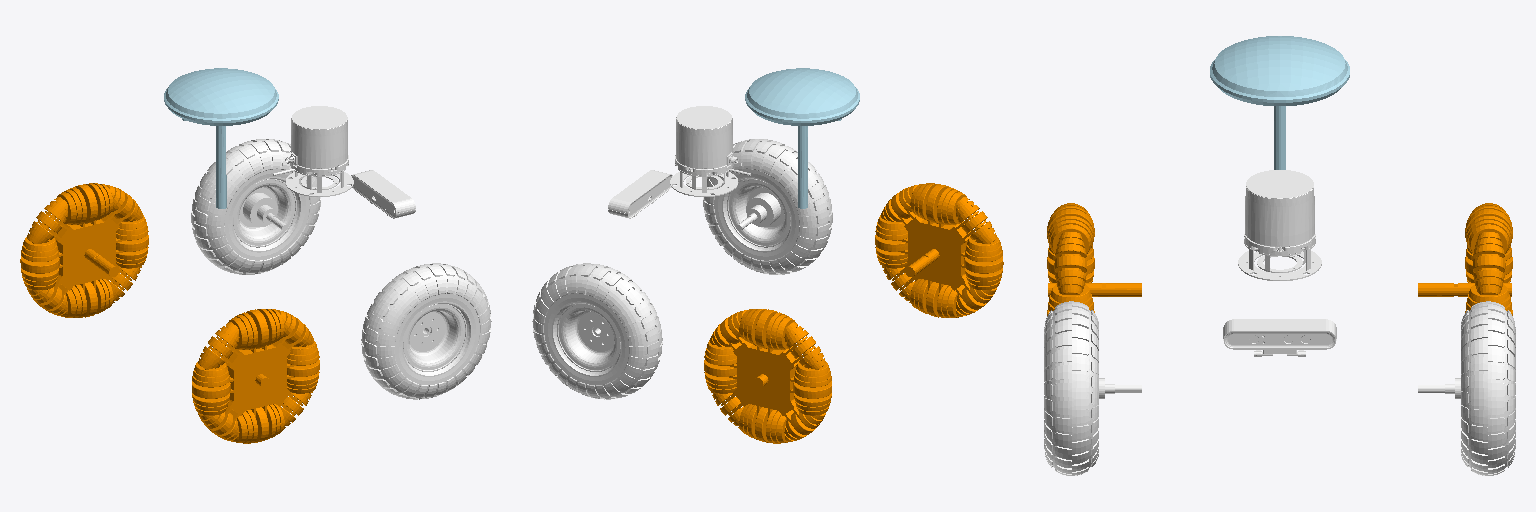
URDF robot description (four_wheel_diff_dl_meshes):
<?xml version="1.0" encoding="utf-8"?>
<!-- This URDF was automatically created by SolidWorks to URDF Exporter! Originally created by Stephen Brawner (brawner@gmail.com) 
     Commit Version: 1.6.0-4-g7f85cfe  Build Version: 1.6.7995.38578
     For more information, please see http://wheeltec_robot_urdf/meshes/wiki.ros.org/sw_urdf_exporter -->
<robot
  name="four_wheel_diff_dl_meshes">
  <link
    name="base_link">
    <inertial>
      <origin
        xyz="-0.00806331461530618 -0.000932512273646859 0.107549949101176"
        rpy="0 0 0" />
      <mass
        value="7.84793817341374" />
      <inertia
        ixx="0.0916779778829036"
        ixy="0.000149693096664217"
        ixz="-0.0011643418131498"
        iyy="0.0872254564011612"
        iyz="0.000113985151646456"
        izz="0.168740806626063" />
    </inertial>
    <visual>
      <origin
        xyz="0 0 0"
        rpy="0 0 0" />
      <geometry>
        <mesh
          filename="package://wheeltec_robot_urdf/meshes/four_wheel_diff_dl_robot_meshes/base_link.STL" />
      </geometry>
      <material
        name="">
        <color
          rgba="0.752941176470588 0.752941176470588 0.752941176470588 1" />
      </material>
    </visual>
    <collision>
      <origin
        xyz="0 0 0"
        rpy="0 0 0" />
      <geometry>
        <mesh
          filename="package://wheeltec_robot_urdf/meshes/four_wheel_diff_dl_robot_meshes/base_link.STL" />
      </geometry>
    </collision>
  </link>
  <link
    name="lf_wheel_link">
    <inertial>
      <origin
        xyz="-5.01173514910747E-08 -0.00170642424946854 5.94733448655571E-07"
        rpy="0 0 0" />
      <mass
        value="1.16012121113247" />
      <inertia
        ixx="0.00602972910268428"
        ixy="5.47807308579985E-10"
        ixz="-1.84165299077901E-09"
        iyy="0.0106298315440435"
        iyz="-1.4714790165743E-08"
        izz="0.00603002450897196" />
    </inertial>
    <visual>
      <origin
        xyz="0 0 0"
        rpy="0 0 0" />
      <geometry>
        <mesh
          filename="package://wheeltec_robot_urdf/meshes/four_wheel_diff_dl_robot_meshes/lf_wheel_link.STL" />
      </geometry>
      <material
        name="">
        <color
          rgba="1 1 1 1" />
      </material>
    </visual>
    <collision>
      <origin
        xyz="0 0 0"
        rpy="0 0 0" />
      <geometry>
        <mesh
          filename="package://wheeltec_robot_urdf/meshes/four_wheel_diff_dl_robot_meshes/lf_wheel_link.STL" />
      </geometry>
    </collision>
  </link>
  <joint
    name="lf_wheel_joint"
    type="continuous">
    <origin
      xyz="0.177199162984322 0.301880000000001 0.041993"
      rpy="0 0 0" />
    <parent
      link="base_link" />
    <child
      link="lf_wheel_link" />
    <axis
      xyz="0 -1 0" />
  </joint>
  <link
    name="rf_wheel_link">
    <inertial>
      <origin
        xyz="5.01173520184306E-08 0.00170642424946899 5.94733447767393E-07"
        rpy="0 0 0" />
      <mass
        value="1.16012121113247" />
      <inertia
        ixx="0.00602972910268411"
        ixy="5.47807257931509E-10"
        ixz="1.84165299400066E-09"
        iyy="0.0106298315440432"
        iyz="1.47147902330147E-08"
        izz="0.00603002450897179" />
    </inertial>
    <visual>
      <origin
        xyz="0 0 0"
        rpy="0 0 0" />
      <geometry>
        <mesh
          filename="package://wheeltec_robot_urdf/meshes/four_wheel_diff_dl_robot_meshes/rf_wheel_link.STL" />
      </geometry>
      <material
        name="">
        <color
          rgba="1 1 1 1" />
      </material>
    </visual>
    <collision>
      <origin
        xyz="0 0 0"
        rpy="0 0 0" />
      <geometry>
        <mesh
          filename="package://wheeltec_robot_urdf/meshes/four_wheel_diff_dl_robot_meshes/rf_wheel_link.STL" />
      </geometry>
    </collision>
  </link>
  <joint
    name="rf_wheel_joint"
    type="continuous">
    <origin
      xyz="0.177199162984322 -0.304479999999999 0.041993"
      rpy="0 0 0" />
    <parent
      link="base_link" />
    <child
      link="rf_wheel_link" />
    <axis
      xyz="0 -1 0" />
  </joint>
  <link
    name="lb_wheel_link">
    <inertial>
      <origin
        xyz="3.3223253037562E-09 -0.000813659203822592 2.37717275031191E-09"
        rpy="0 0 0" />
      <mass
        value="1.84890850705851" />
      <inertia
        ixx="0.00775640915402864"
        ixy="-1.50914446669823E-10"
        ixz="-1.81579025133657E-09"
        iyy="0.014717596649701"
        iyz="1.8047797953026E-10"
        izz="0.00775642346336651" />
    </inertial>
    <visual>
      <origin
        xyz="0 0 0"
        rpy="0 0 0" />
      <geometry>
        <mesh
          filename="package://wheeltec_robot_urdf/meshes/four_wheel_diff_dl_robot_meshes/lb_wheel_link.STL" />
      </geometry>
      <material
        name="">
        <color
          rgba="1 0.6 0 1" />
      </material>
    </visual>
    <collision>
      <origin
        xyz="0 0 0"
        rpy="0 0 0" />
      <geometry>
        <mesh
          filename="package://wheeltec_robot_urdf/meshes/four_wheel_diff_dl_robot_meshes/lb_wheel_link.STL" />
      </geometry>
    </collision>
  </link>
  <joint
    name="lb_wheel_joint"
    type="continuous">
    <origin
      xyz="-0.174800837015678 0.303500000000001 0.037"
      rpy="0 0 0" />
    <parent
      link="base_link" />
    <child
      link="lb_wheel_link" />
    <axis
      xyz="0 1 0" />
  </joint>
  <link
    name="rb_wheel_link">
    <inertial>
      <origin
        xyz="-3.32232544253408E-09 0.000813659203822537 2.37717297235651E-09"
        rpy="0 0 0" />
      <mass
        value="1.84890850705852" />
      <inertia
        ixx="0.00775640915402866"
        ixy="-1.50914446678396E-10"
        ixz="1.81579025280261E-09"
        iyy="0.014717596649701"
        iyz="-1.80477990000196E-10"
        izz="0.00775642346336651" />
    </inertial>
    <visual>
      <origin
        xyz="0 0 0"
        rpy="0 0 0" />
      <geometry>
        <mesh
          filename="package://wheeltec_robot_urdf/meshes/four_wheel_diff_dl_robot_meshes/rb_wheel_link.STL" />
      </geometry>
      <material
        name="">
        <color
          rgba="1 0.6 0 1" />
      </material>
    </visual>
    <collision>
      <origin
        xyz="0 0 0"
        rpy="0 0 0" />
      <geometry>
        <mesh
          filename="package://wheeltec_robot_urdf/meshes/four_wheel_diff_dl_robot_meshes/rb_wheel_link.STL" />
      </geometry>
    </collision>
  </link>
  <joint
    name="rb_wheel_joint"
    type="continuous">
    <origin
      xyz="-0.174800837015678 -0.306099999999999 0.037"
      rpy="0 0 0" />
    <parent
      link="base_link" />
    <child
      link="rb_wheel_link" />
    <axis
      xyz="0 1 0" />
  </joint>
  <link
    name="laser_link">
    <inertial>
      <origin
        xyz="-0.000792227312165439 1.33119285977949E-06 -0.0296756284343189"
        rpy="0 0 0" />
      <mass
        value="0.118401562997181" />
      <inertia
        ixx="0.000132583547440517"
        ixy="-2.17388444683131E-09"
        ixz="-1.07082621804755E-06"
        iyy="0.000135451246710215"
        iyz="-7.24378366879269E-10"
        izz="0.000208462359454154" />
    </inertial>
    <visual>
      <origin
        xyz="0 0 0"
        rpy="0 0 0" />
      <geometry>
        <mesh
          filename="package://wheeltec_robot_urdf/meshes/four_wheel_diff_dl_robot_meshes/laser_link.STL" />
      </geometry>
      <material
        name="">
        <color
          rgba="1 1 1 1" />
      </material>
    </visual>
    <collision>
      <origin
        xyz="0 0 0"
        rpy="0 0 0" />
      <geometry>
        <mesh
          filename="package://wheeltec_robot_urdf/meshes/four_wheel_diff_dl_robot_meshes/laser_link.STL" />
      </geometry>
    </collision>
  </link>
  <joint
    name="laser_joint"
    type="fixed">
    <origin
      xyz="0.132555813230632 -0.00130000000000264 0.2896"
      rpy="0 0 0" />
    <parent
      link="base_link" />
    <child
      link="laser_link" />
    <axis
      xyz="0 0 0" />
  </joint>
  <link
    name="mushroom_link">
    <inertial>
      <origin
        xyz="4.59690452216388E-05 2.45345455899069E-06 -0.00388026698978955"
        rpy="0 0 0" />
      <mass
        value="1.34258666131724" />
      <inertia
        ixx="0.00297304983444156"
        ixy="2.98782533755192E-10"
        ixz="1.25114979775122E-06"
        iyy="0.00297544434431152"
        iyz="2.72101550102915E-07"
        izz="0.00503687461206904" />
    </inertial>
    <visual>
      <origin
        xyz="0 0 0"
        rpy="0 0 0" />
      <geometry>
        <mesh
          filename="package://wheeltec_robot_urdf/meshes/four_wheel_diff_dl_robot_meshes/mushroom_link.STL" />
      </geometry>
      <material
        name="">
        <color
          rgba="0.741176470588235 0.901960784313726 0.956862745098039 1" />
      </material>
    </visual>
    <collision>
      <origin
        xyz="0 0 0"
        rpy="0 0 0" />
      <geometry>
        <mesh
          filename="package://wheeltec_robot_urdf/meshes/four_wheel_diff_dl_robot_meshes/mushroom_link.STL" />
      </geometry>
    </collision>
  </link>
  <joint
    name="mushroom_joint"
    type="fixed">
    <origin
      xyz="-0.0697441867693729 -0.00129999999999782 0.438965569400788"
      rpy="0 0 0" />
    <parent
      link="base_link" />
    <child
      link="mushroom_link" />
    <axis
      xyz="0 0 0" />
  </joint>
  <link
    name="camera_link">
    <inertial>
      <origin
        xyz="-4.27512008016606E-08 -3.48614000455721E-07 1.07624267053907E-07"
        rpy="0 0 0" />
      <mass
        value="0.0559842512080703" />
      <inertia
        ixx="0.000130810959340119"
        ixy="1.20255127983113E-07"
        ixz="1.62335437078119E-06"
        iyy="1.91148634968319E-05"
        iyz="-2.80016756976065E-08"
        izz="0.00013138746952398" />
    </inertial>
    <visual>
      <origin
        xyz="0 0 0"
        rpy="0 0 0" />
      <geometry>
        <mesh
          filename="package://wheeltec_robot_urdf/meshes/four_wheel_diff_dl_robot_meshes/camera_link.STL" />
      </geometry>
      <material
        name="">
        <color
          rgba="1 1 1 1" />
      </material>
    </visual>
    <collision>
      <origin
        xyz="0 0 0"
        rpy="0 0 0" />
      <geometry>
        <mesh
          filename="package://wheeltec_robot_urdf/meshes/four_wheel_diff_dl_robot_meshes/camera_link.STL" />
      </geometry>
    </collision>
  </link>
  <joint
    name="camera_joint"
    type="fixed">
    <origin
      xyz="0.264889162984322 -0.00122199999999866 0.165904"
      rpy="0 0 0" />
    <parent
      link="base_link" />
    <child
      link="camera_link" />
    <axis
      xyz="0 0 0" />
  </joint>
  <link
    name="controller_link">
    <inertial>
      <origin
        xyz="-0.0679487927401328 -0.040009359305549 -0.0511479986209233"
        rpy="0 0 0" />
      <mass
        value="22.934674361705" />
      <inertia
        ixx="1.50219916292921"
        ixy="-0.00106868590815552"
        ixz="0.0983436147645965"
        iyy="1.02843903465553"
        iyz="-0.000478045144053118"
        izz="1.67309164597008" />
    </inertial>
    <visual>
      <origin
        xyz="0 0 0"
        rpy="0 0 0" />
      <geometry>
        <mesh
          filename="package://wheeltec_robot_urdf/meshes/four_wheel_diff_dl_robot_meshes/controller_link.STL" />
      </geometry>
      <material
        name="">
        <color
          rgba="0.741176470588235 0.901960784313726 0.956862745098039 1" />
      </material>
    </visual>
    <collision>
      <origin
        xyz="0 0 0"
        rpy="0 0 0" />
      <geometry>
        <mesh
          filename="package://wheeltec_robot_urdf/meshes/four_wheel_diff_dl_robot_meshes/controller_link.STL" />
      </geometry>
    </collision>
  </link>
  <joint
    name="controller_joint"
    type="fixed">
    <origin
      xyz="0.039014949253069 0.0388354596901158 0.179800002829566"
      rpy="0 0 0" />
    <parent
      link="base_link" />
    <child
      link="controller_link" />
    <axis
      xyz="0 0 0" />
  </joint>
</robot>

--- Render facts (derived) ---
The picture shows the robot from 3 angles, left to right: view 1: azimuth 30°, elevation 25°; view 2: azimuth 150°, elevation 25°; view 3: azimuth 270°, elevation 25°; orthographic projection.
Model four_wheel_diff_dl_meshes with 9 links and 8 joints (4 continuous, 4 fixed), rooted at base_link, posed every joint at zero.
Links seen in each view (by area): view 1: rf_wheel_link, lb_wheel_link, rb_wheel_link, lf_wheel_link, mushroom_link, laser_link, camera_link; view 2: lf_wheel_link, rb_wheel_link, lb_wheel_link, rf_wheel_link, mushroom_link, laser_link, camera_link; view 3: rf_wheel_link, lf_wheel_link, mushroom_link, laser_link, rb_wheel_link, lb_wheel_link, camera_link.
Boxes of the visible links, left/top/right/bottom form: rf_wheel_link: left=361, top=263, right=491, bottom=399; lb_wheel_link: left=20, top=183, right=148, bottom=317; rb_wheel_link: left=192, top=309, right=319, bottom=443; lf_wheel_link: left=191, top=139, right=320, bottom=274; mushroom_link: left=164, top=68, right=278, bottom=208; laser_link: left=273, top=106, right=353, bottom=196; camera_link: left=351, top=170, right=415, bottom=218; lf_wheel_link: left=532, top=263, right=662, bottom=399; rb_wheel_link: left=875, top=183, right=1003, bottom=317; lb_wheel_link: left=704, top=309, right=831, bottom=443; rf_wheel_link: left=703, top=139, right=832, bottom=274; mushroom_link: left=745, top=68, right=859, bottom=208; laser_link: left=670, top=106, right=750, bottom=196; camera_link: left=608, top=170, right=672, bottom=218; rf_wheel_link: left=1044, top=301, right=1141, bottom=475; lf_wheel_link: left=1418, top=301, right=1515, bottom=475; mushroom_link: left=1210, top=36, right=1349, bottom=169; laser_link: left=1238, top=170, right=1321, bottom=280; rb_wheel_link: left=1047, top=203, right=1141, bottom=315; lb_wheel_link: left=1418, top=203, right=1512, bottom=315; camera_link: left=1223, top=319, right=1336, bottom=356.
Size in the robot's own frame: 0.6065 by 0.6866 by 0.5639 metres.
7 mesh visuals loaded from 9 distinct referenced files (7 binary STL); not drawn: 2 (reference not matched to a file when rendering).
